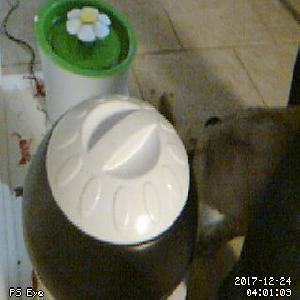cat: (156, 90, 300, 258)
fountain: (31, 1, 138, 78)
